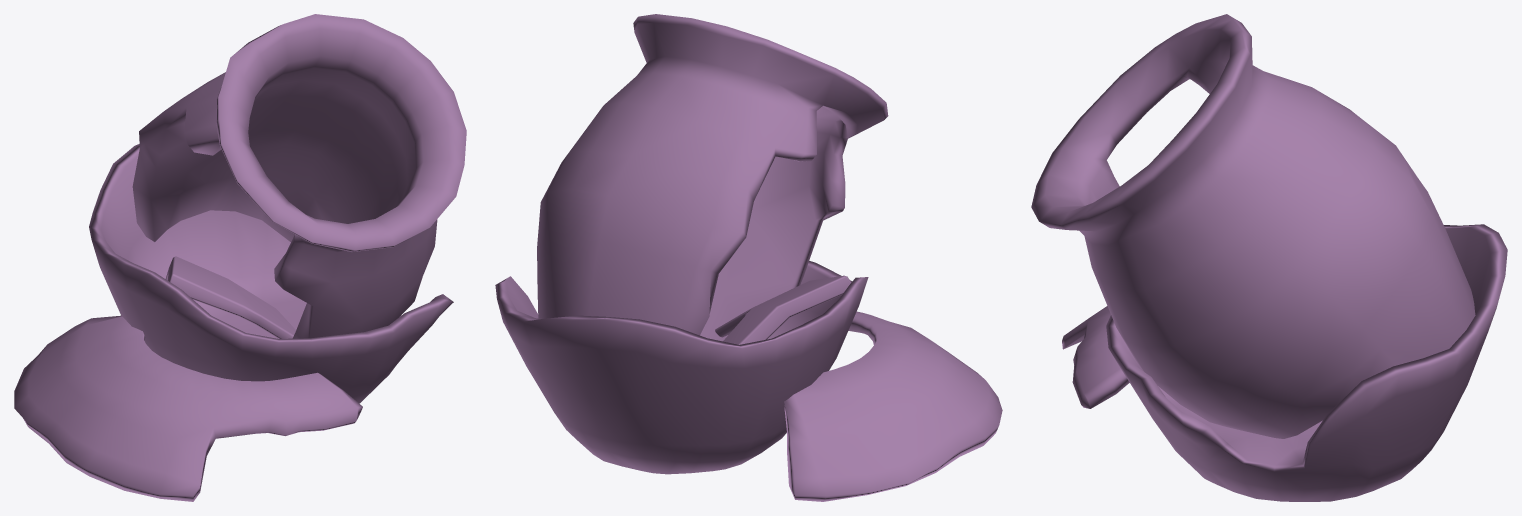
The model's file is Jar_Break_01_Lod0.fbx.
3 views of the same model, side by side, from view 1: azimuth 30°, elevation 25°; view 2: azimuth 150°, elevation 25°; view 3: azimuth 270°, elevation 25° (orthographic). The views are drawn at different scales.
Parts seen in each view (by area): view 1: Jar_Break_01_Lod0; view 2: Jar_Break_01_Lod0; view 3: Jar_Break_01_Lod0.
Part boxes in pixels (left/top/right/bottom): Jar_Break_01_Lod0: left=14, top=14, right=466, bottom=501; Jar_Break_01_Lod0: left=495, top=14, right=1002, bottom=501; Jar_Break_01_Lod0: left=1031, top=14, right=1507, bottom=501.
Bounding box in the file's own units: 63.99 × 59.03 × 60.28.
